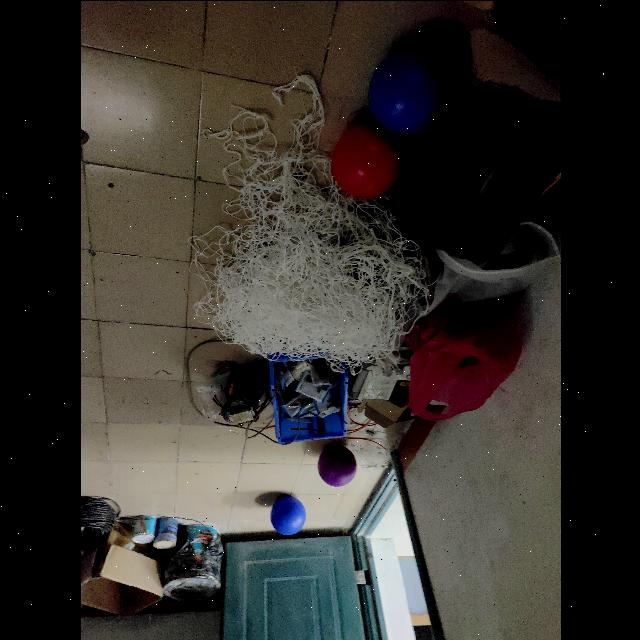B: (366, 49, 442, 138), (268, 494, 304, 536)
P: (316, 442, 356, 486)
R: (331, 120, 404, 202)
